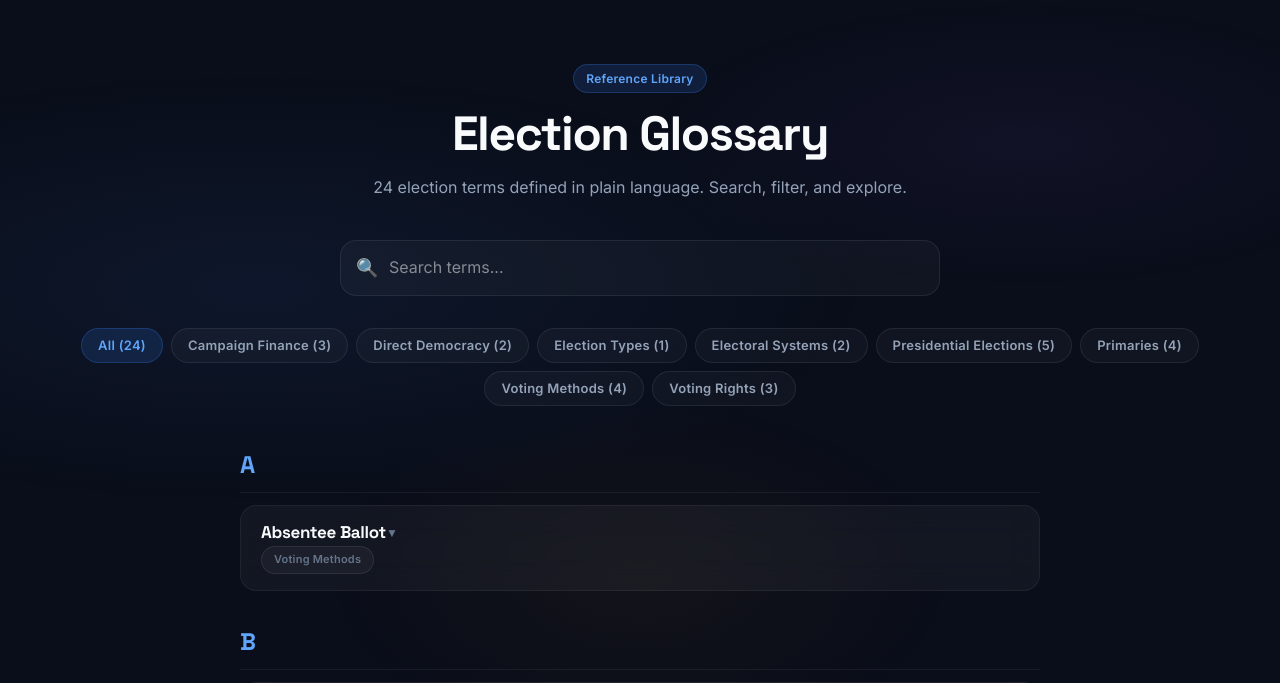
Glossary Page › filters terms based on search input
Type "Gerrymandering" into the search field named "Search glossary terms" at (640, 268), box [340,240,940,296]
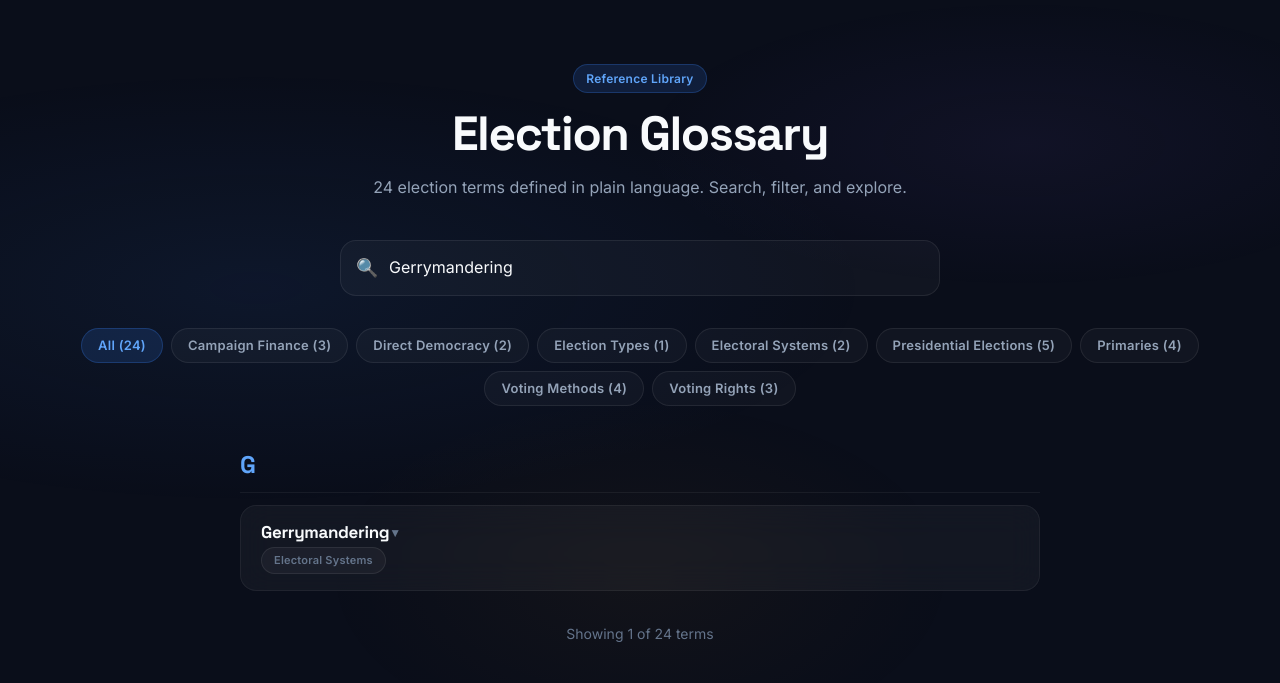
Expected: the heading "Gerrymandering" is shown, [261,522,389,542]
Result: the button "Absentee Ballot" is gone
